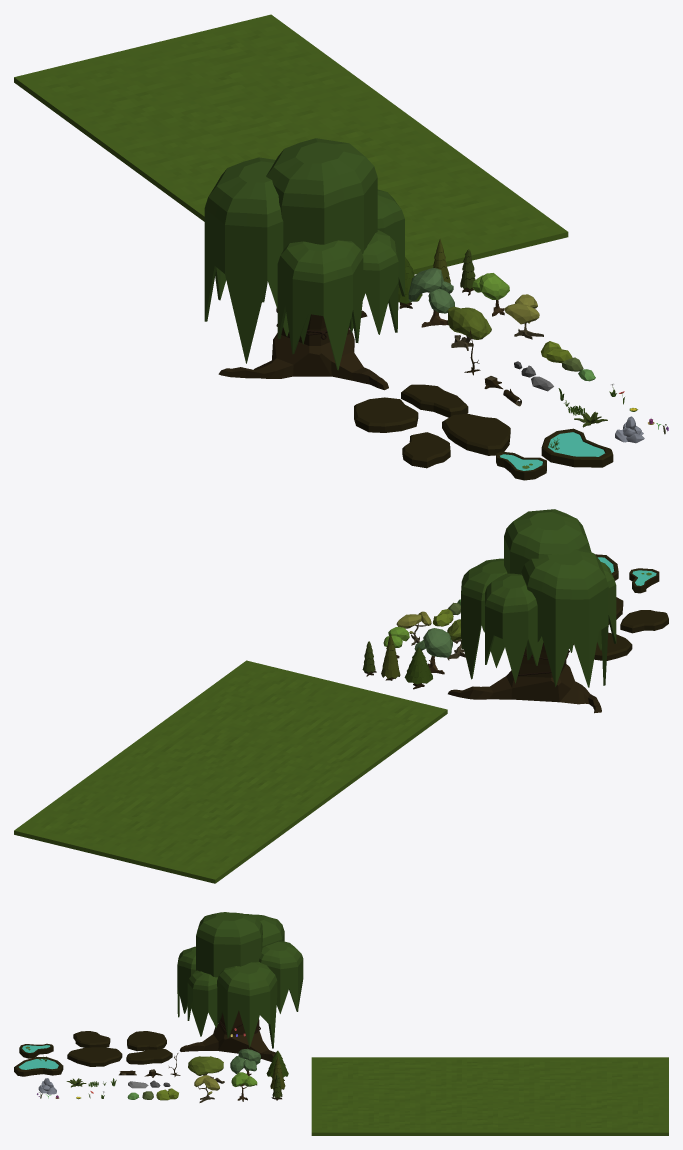
Rendered from GraveyardGame_Assets01.fbx.
The picture shows the model from 3 angles, top to bottom: view 1: azimuth 30°, elevation 25°; view 2: azimuth 150°, elevation 25°; view 3: azimuth 270°, elevation 25°; orthographic projection. The views are drawn at different scales.
Parts seen in each view (by area): view 1: Waldboden, Weide01, Weg01, Teich01, Weg_Grab, Baum02.1, Weg03, Weg02, Baum01.2, Teich02, Baum03.4, Baum04.1; view 2: Waldboden, Weide01, Baum02.1, Weg02, Tanne01.1, Weg_Grab, Teich02; view 3: Waldboden, Weide01, Weg01, Teich01, Weg_Grab, Baum01.2, Weg03, Baum02.1, Weg02, Teich02, Baum03.4, Baum04.1.
Part boxes in pixels (bbox=[...]): Waldboden: bbox=[14, 14, 568, 274]; Weide01: bbox=[204, 138, 404, 390]; Weg01: bbox=[442, 413, 510, 455]; Teich01: bbox=[541, 428, 613, 467]; Weg_Grab: bbox=[354, 397, 418, 432]; Baum02.1: bbox=[408, 267, 454, 327]; Weg03: bbox=[401, 384, 468, 417]; Weg02: bbox=[402, 432, 450, 468]; Baum01.2: bbox=[447, 306, 491, 350]; Teich02: bbox=[496, 451, 546, 480]; Baum03.4: bbox=[504, 294, 543, 339]; Baum04.1: bbox=[472, 273, 509, 316]; Waldboden: bbox=[14, 660, 447, 883]; Weide01: bbox=[448, 509, 616, 713]; Baum02.1: bbox=[414, 628, 452, 674]; Weg02: bbox=[620, 610, 668, 633]; Tanne01.1: bbox=[404, 647, 432, 689]; Weg_Grab: bbox=[594, 632, 632, 660]; Teich02: bbox=[629, 568, 659, 593]; Waldboden: bbox=[311, 1057, 668, 1135]; Weide01: bbox=[177, 912, 303, 1061]; Weg01: bbox=[67, 1047, 122, 1066]; Teich01: bbox=[14, 1057, 63, 1076]; Weg_Grab: bbox=[127, 1031, 166, 1051]; Baum01.2: bbox=[188, 1056, 224, 1083]; Weg03: bbox=[126, 1049, 172, 1064]; Baum02.1: bbox=[230, 1048, 260, 1086]; Weg02: bbox=[73, 1031, 110, 1047]; Teich02: bbox=[19, 1043, 53, 1058]; Baum03.4: bbox=[194, 1075, 219, 1102]; Baum04.1: bbox=[231, 1072, 257, 1101].
Bounding box in the file's own units: 1567 × 801 × 3667.
